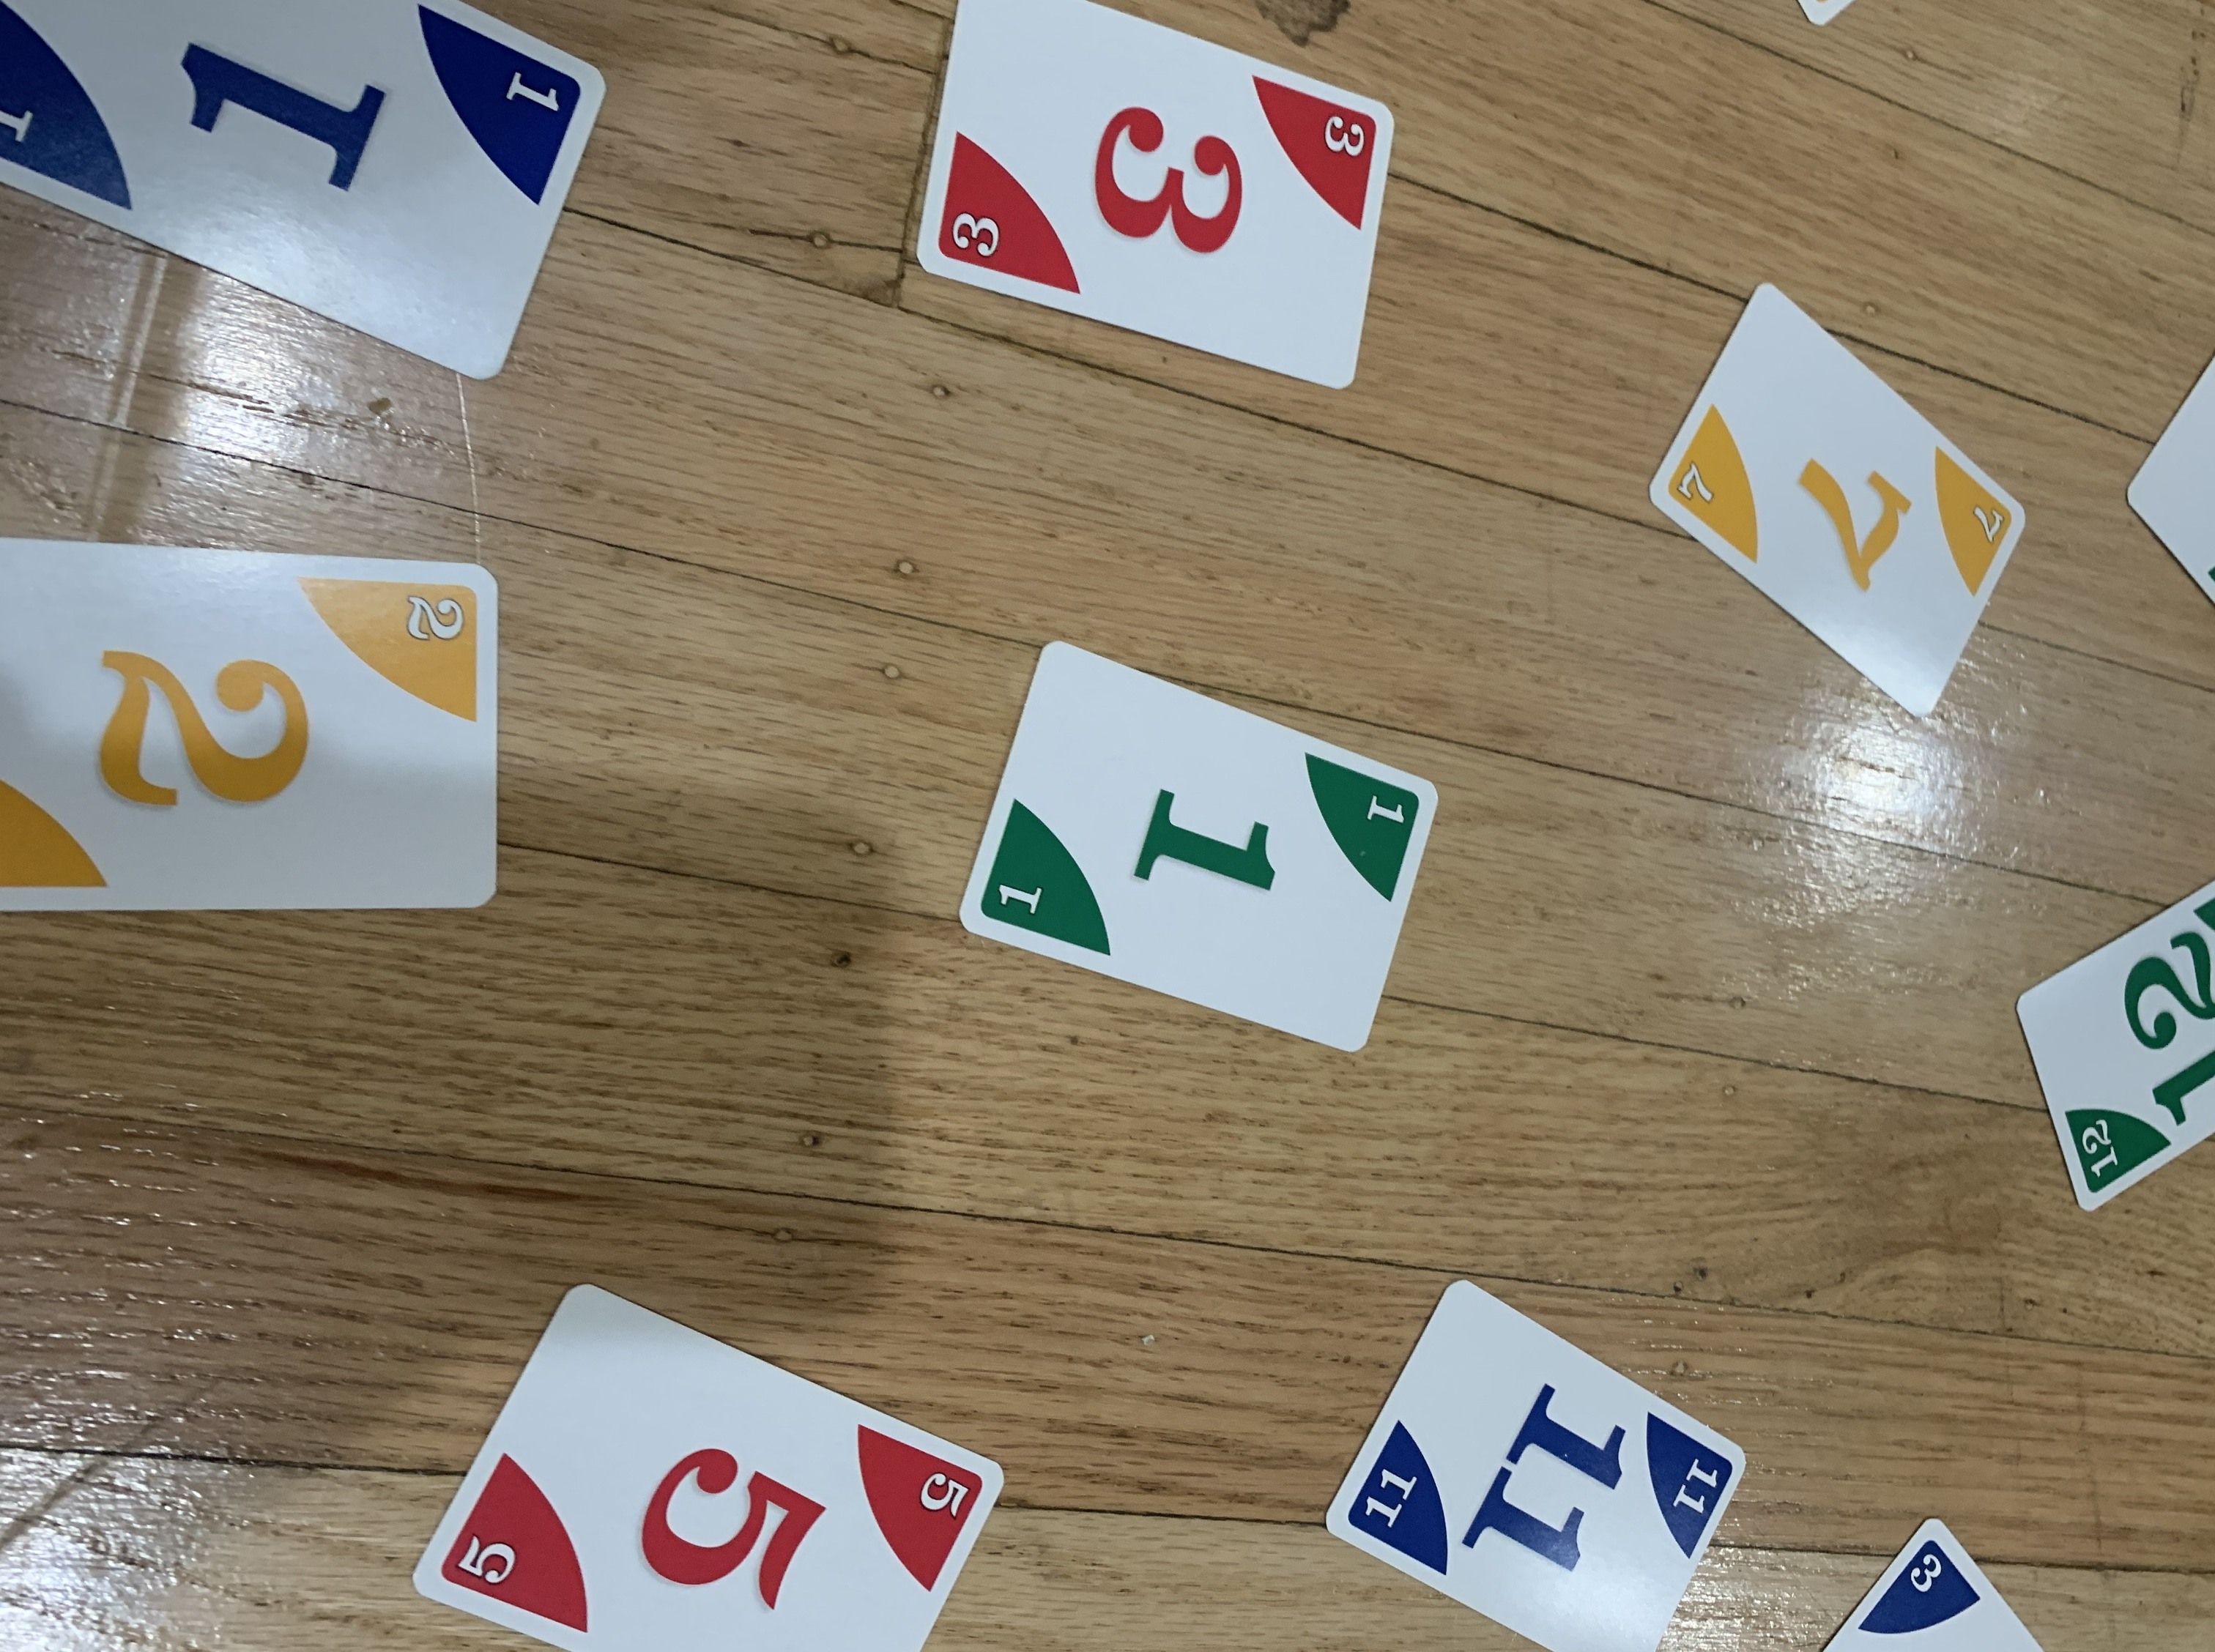eleven: (1309, 1265, 1752, 1652)
five: (413, 1275, 1015, 1652)
one: (939, 633, 1444, 1055)
seven: (1625, 272, 2041, 720)
three: (901, 2, 1413, 401)
two: (0, 522, 512, 925)
